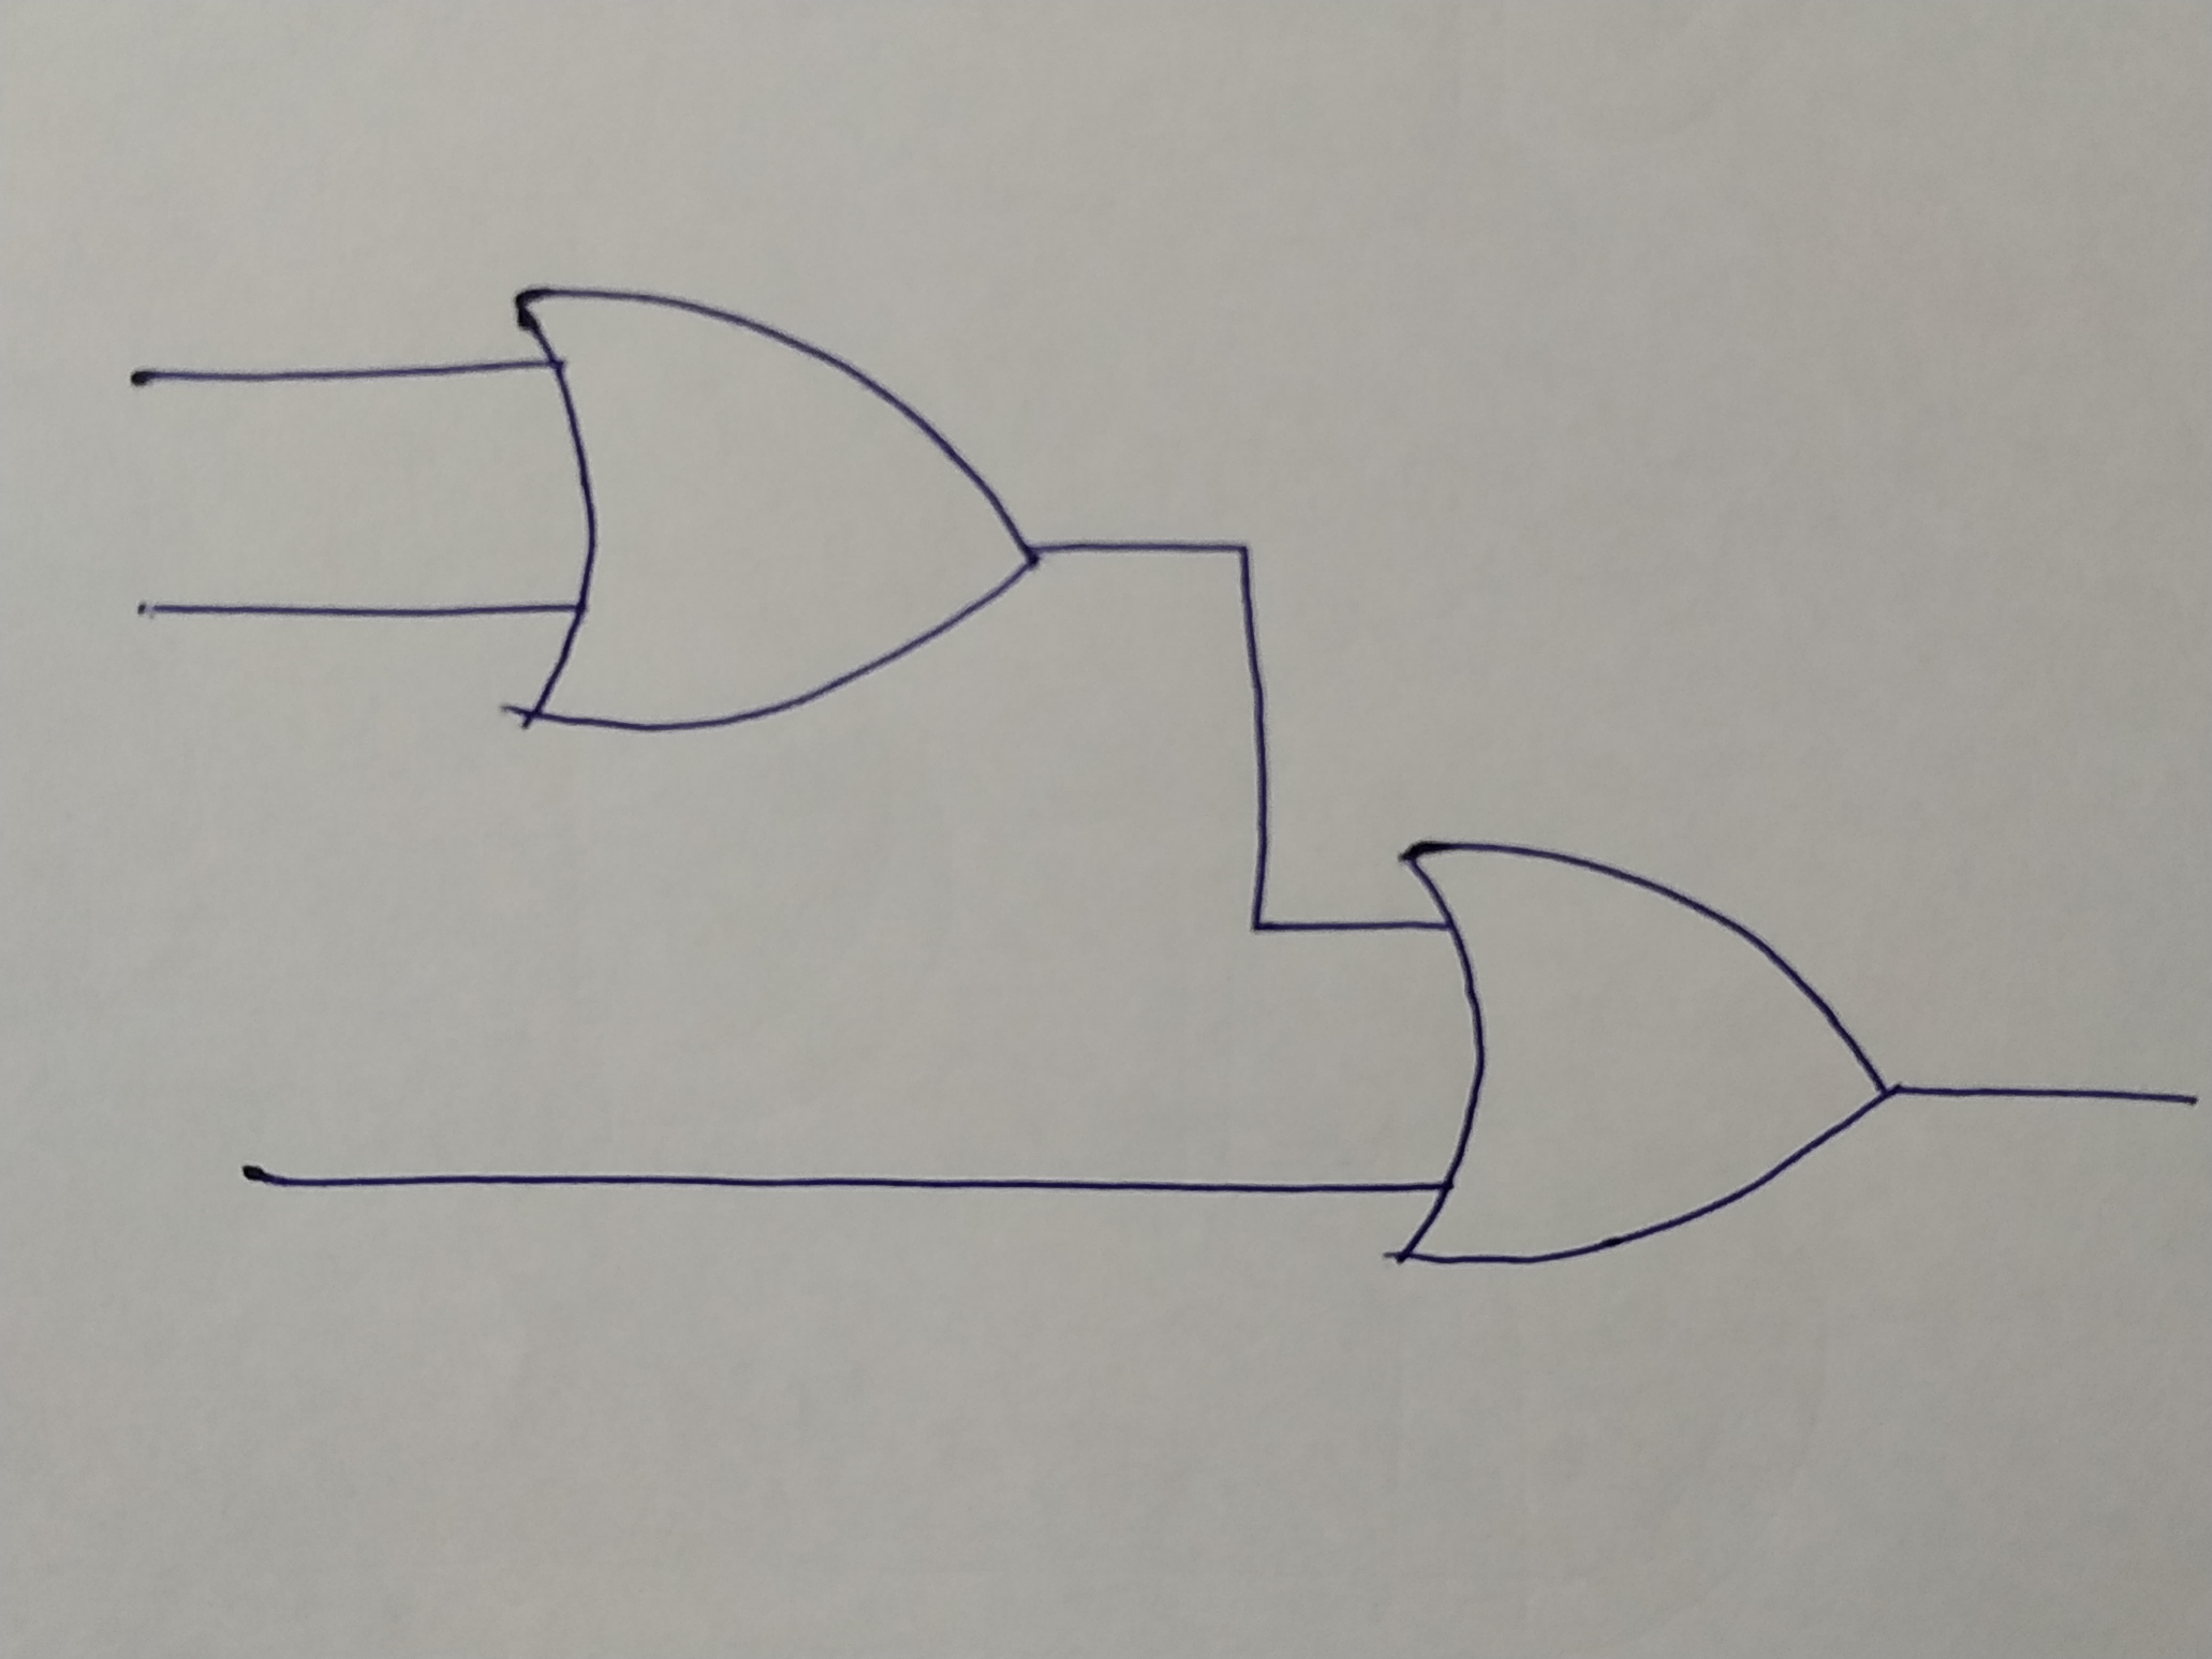or: (505, 281, 1033, 725), (1390, 838, 1879, 1265)
